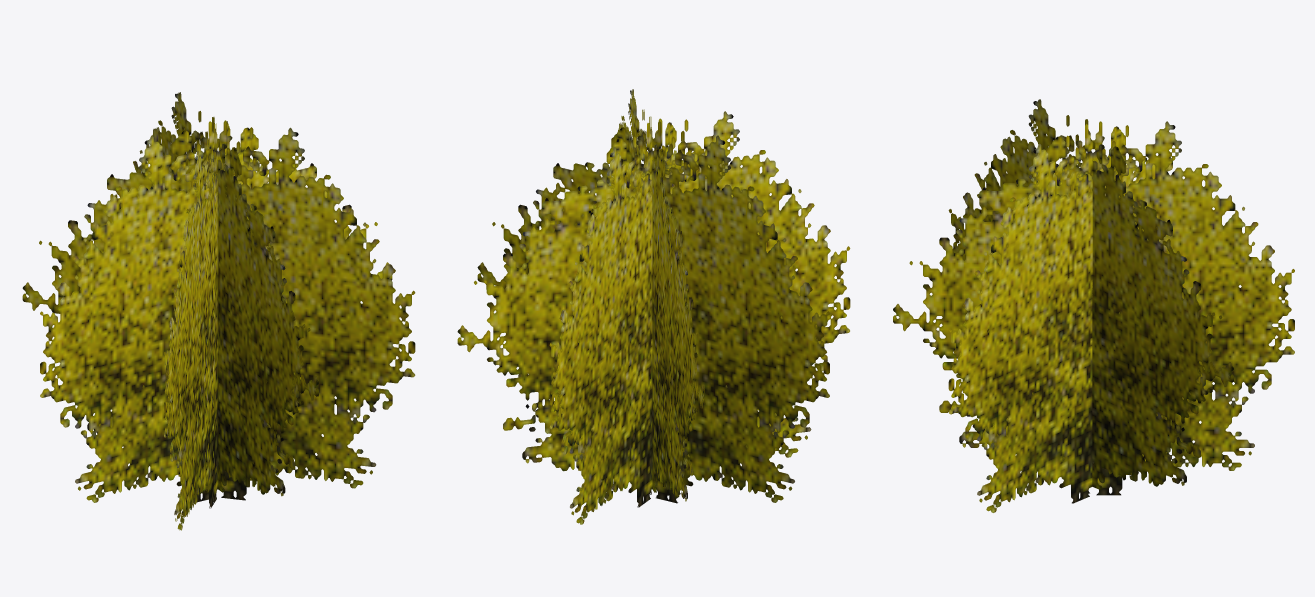
Rendered from bush03.glb.
3 renders of one model, left to right at view 1: azimuth 30°, elevation 25°; view 2: azimuth 150°, elevation 25°; view 3: azimuth 270°, elevation 25°, orthographic.
Parts seen in each view (by area): view 1: bush03; view 2: bush03; view 3: bush03.
Part boxes in pixels (x1,y1,x2,y2): bush03: [22, 92, 415, 530]; bush03: [457, 89, 850, 524]; bush03: [893, 99, 1294, 512].
Bounding box in the file's own units: 7.2 × 7.5 × 7.2.
1 material, 1 textured.
